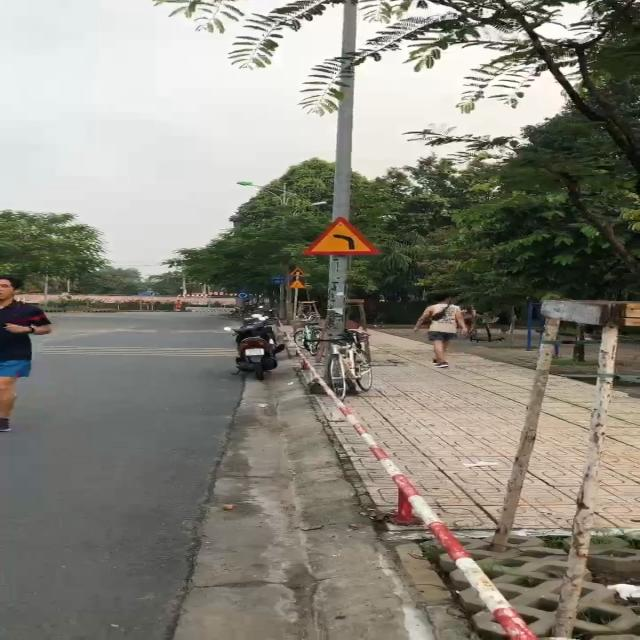Bien bao cho ngoat nguy hiem: (298, 215, 393, 256)
